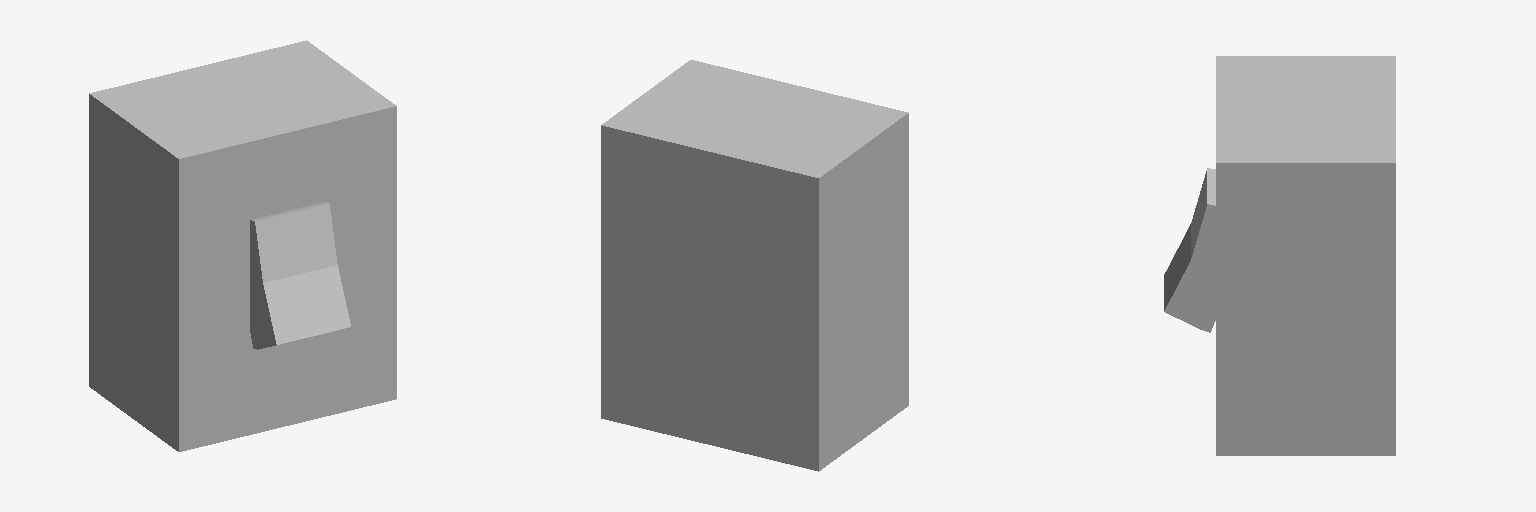
File: offSwitch.obj
3 renders of one model, left to right at view 1: azimuth 30°, elevation 25°; view 2: azimuth 150°, elevation 25°; view 3: azimuth 270°, elevation 25°, orthographic.
Visible parts, largest first — view 1: Box001, VExtr042; view 2: Box001; view 3: Box001, VExtr042.
Part boxes in pixels (x1,y1,x2,y2): Box001: (89, 40, 396, 451); VExtr042: (250, 202, 350, 349); Box001: (601, 60, 908, 471); Box001: (1216, 56, 1395, 455); VExtr042: (1164, 168, 1215, 332).
Size of the model in its own units: 14 by 18 by 12.91.